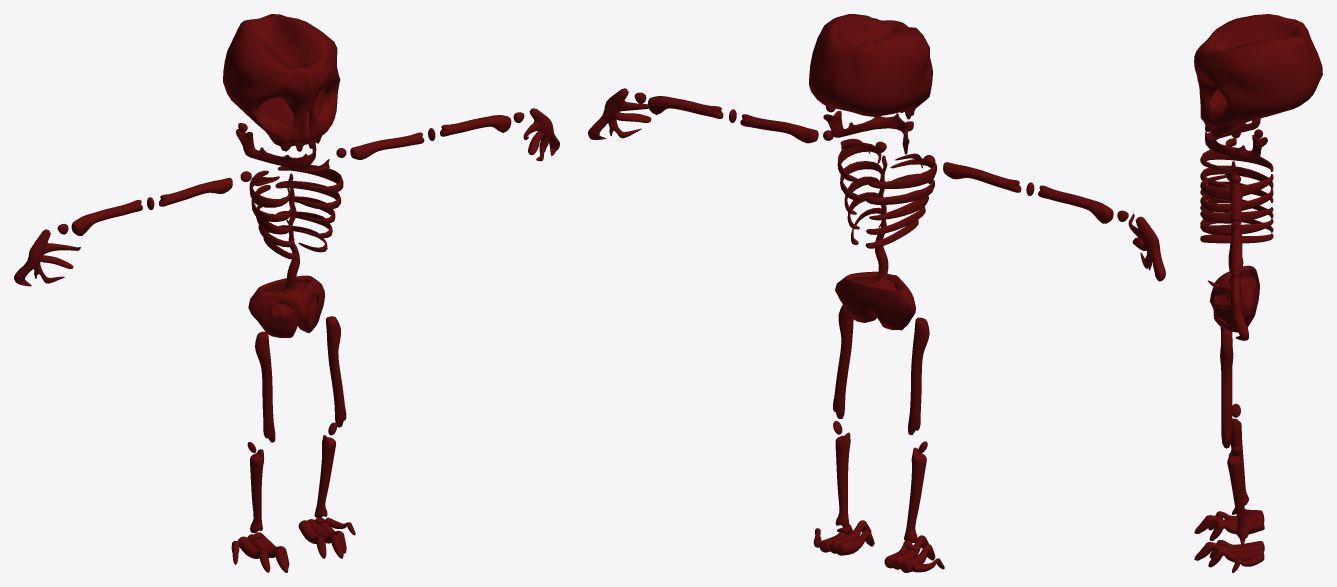
The model's file is ModeloEsqueleto.fbx.
3 views of the same model, side by side, from view 1: azimuth 30°, elevation 25°; view 2: azimuth 150°, elevation 25°; view 3: azimuth 270°, elevation 25° (orthographic). The views are drawn at different scales.
Parts seen in each view (by area): view 1: Calavera Superior, Plane015, Box001, Cylinder006, Cylinder011, Box002, Mandibula Inferior, Cylinder012, Cylinder007, Cylinder003, Cylinder001, Cylinder002 (+3 smaller); view 2: Calavera Superior, Plane015, Box002, Cylinder006, Cylinder011, Box001, Mandibula Inferior, Cylinder007, Cylinder012, Cylinder001, Cylinder003, Cylinder002 (+3 smaller); view 3: Calavera Superior, Plane015, Cylinder011, Mandibula Inferior, Box002, Cylinder012, Plane006, Plane008, Plane012, Plane007, Plane010, Plane005 (+14 smaller).
Part boxes in pixels (left/top/right/bottom): Calavera Superior: left=223, top=14, right=340, bottom=151; Plane015: left=248, top=275, right=324, bottom=337; Box001: left=14, top=229, right=80, bottom=286; Cylinder006: left=255, top=331, right=275, bottom=442; Cylinder011: left=326, top=316, right=346, bottom=427; Box002: left=523, top=108, right=559, bottom=161; Mandibula Inferior: left=236, top=129, right=316, bottom=167; Cylinder012: left=314, top=435, right=336, bottom=518; Cylinder007: left=250, top=449, right=264, bottom=533; Cylinder003: left=71, top=199, right=142, bottom=235; Cylinder001: left=268, top=173, right=308, bottom=303; Cylinder002: left=159, top=178, right=232, bottom=206; Calavera Superior: left=809, top=14, right=932, bottom=119; Plane015: left=835, top=271, right=915, bottom=330; Box002: left=588, top=88, right=651, bottom=139; Cylinder006: left=908, top=317, right=929, bottom=434; Cylinder011: left=833, top=305, right=853, bottom=418; Box001: left=1128, top=213, right=1165, bottom=281; Mandibula Inferior: left=823, top=111, right=909, bottom=154; Cylinder007: left=904, top=447, right=926, bottom=542; Cylinder012: left=835, top=432, right=850, bottom=527; Cylinder001: left=852, top=155, right=897, bottom=291; Cylinder003: left=1038, top=185, right=1113, bottom=223; Cylinder002: left=943, top=162, right=1021, bottom=192; Calavera Superior: left=1194, top=14, right=1322, bottom=137; Plane015: left=1209, top=265, right=1259, bottom=332; Cylinder011: left=1220, top=329, right=1233, bottom=448; Mandibula Inferior: left=1205, top=118, right=1267, bottom=160; Box002: left=1207, top=277, right=1248, bottom=340; Cylinder012: left=1227, top=452, right=1248, bottom=539; Plane006: left=1200, top=174, right=1273, bottom=198; Plane008: left=1200, top=165, right=1273, bottom=188; Plane012: left=1200, top=219, right=1273, bottom=235; Plane007: left=1200, top=189, right=1273, bottom=212; Plane010: left=1200, top=207, right=1273, bottom=223; Plane005: left=1200, top=149, right=1273, bottom=171.
Size of the model in its own units: 77.25 by 70.1 by 15.69.
